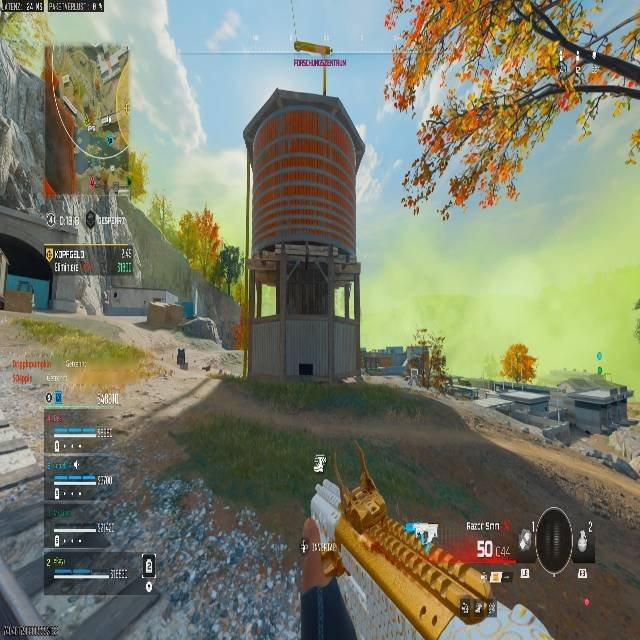player: (0, 294, 5, 311)
